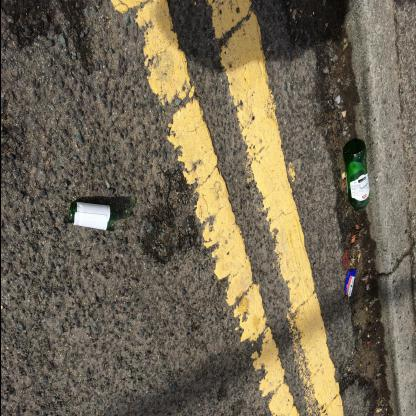cam: (342, 139, 370, 211), (67, 203, 116, 232)
plastik: (342, 268, 356, 298)
